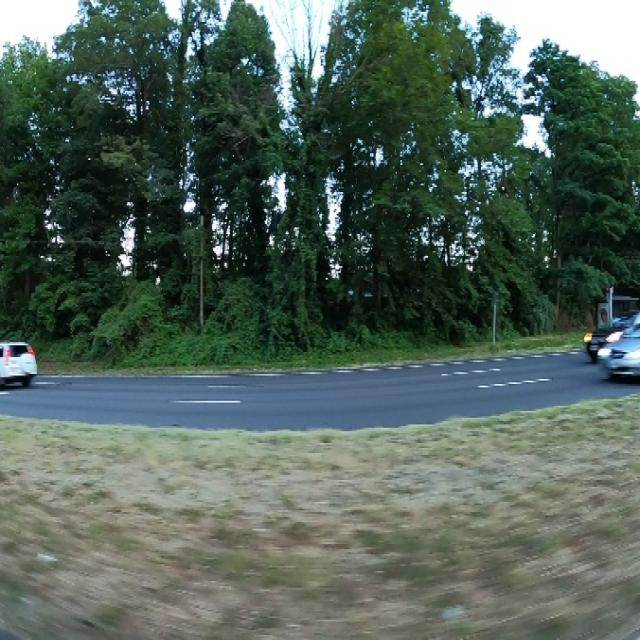car: (581, 300, 640, 386), (0, 321, 48, 397)
